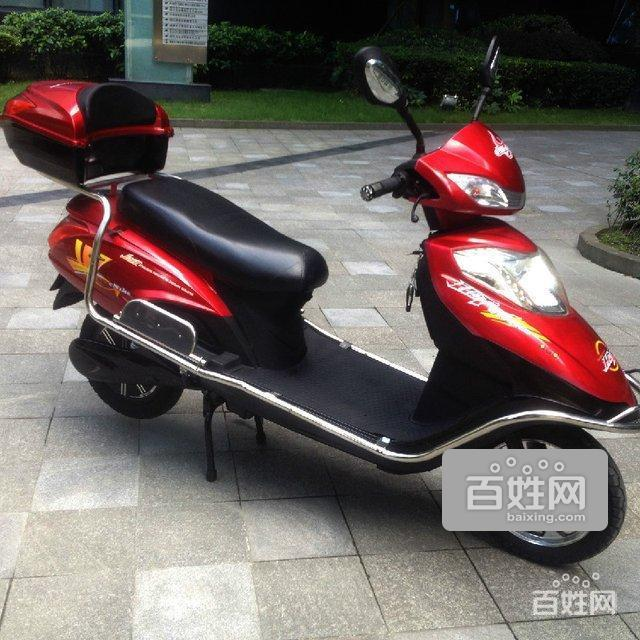电动车: (1, 22, 640, 566)
